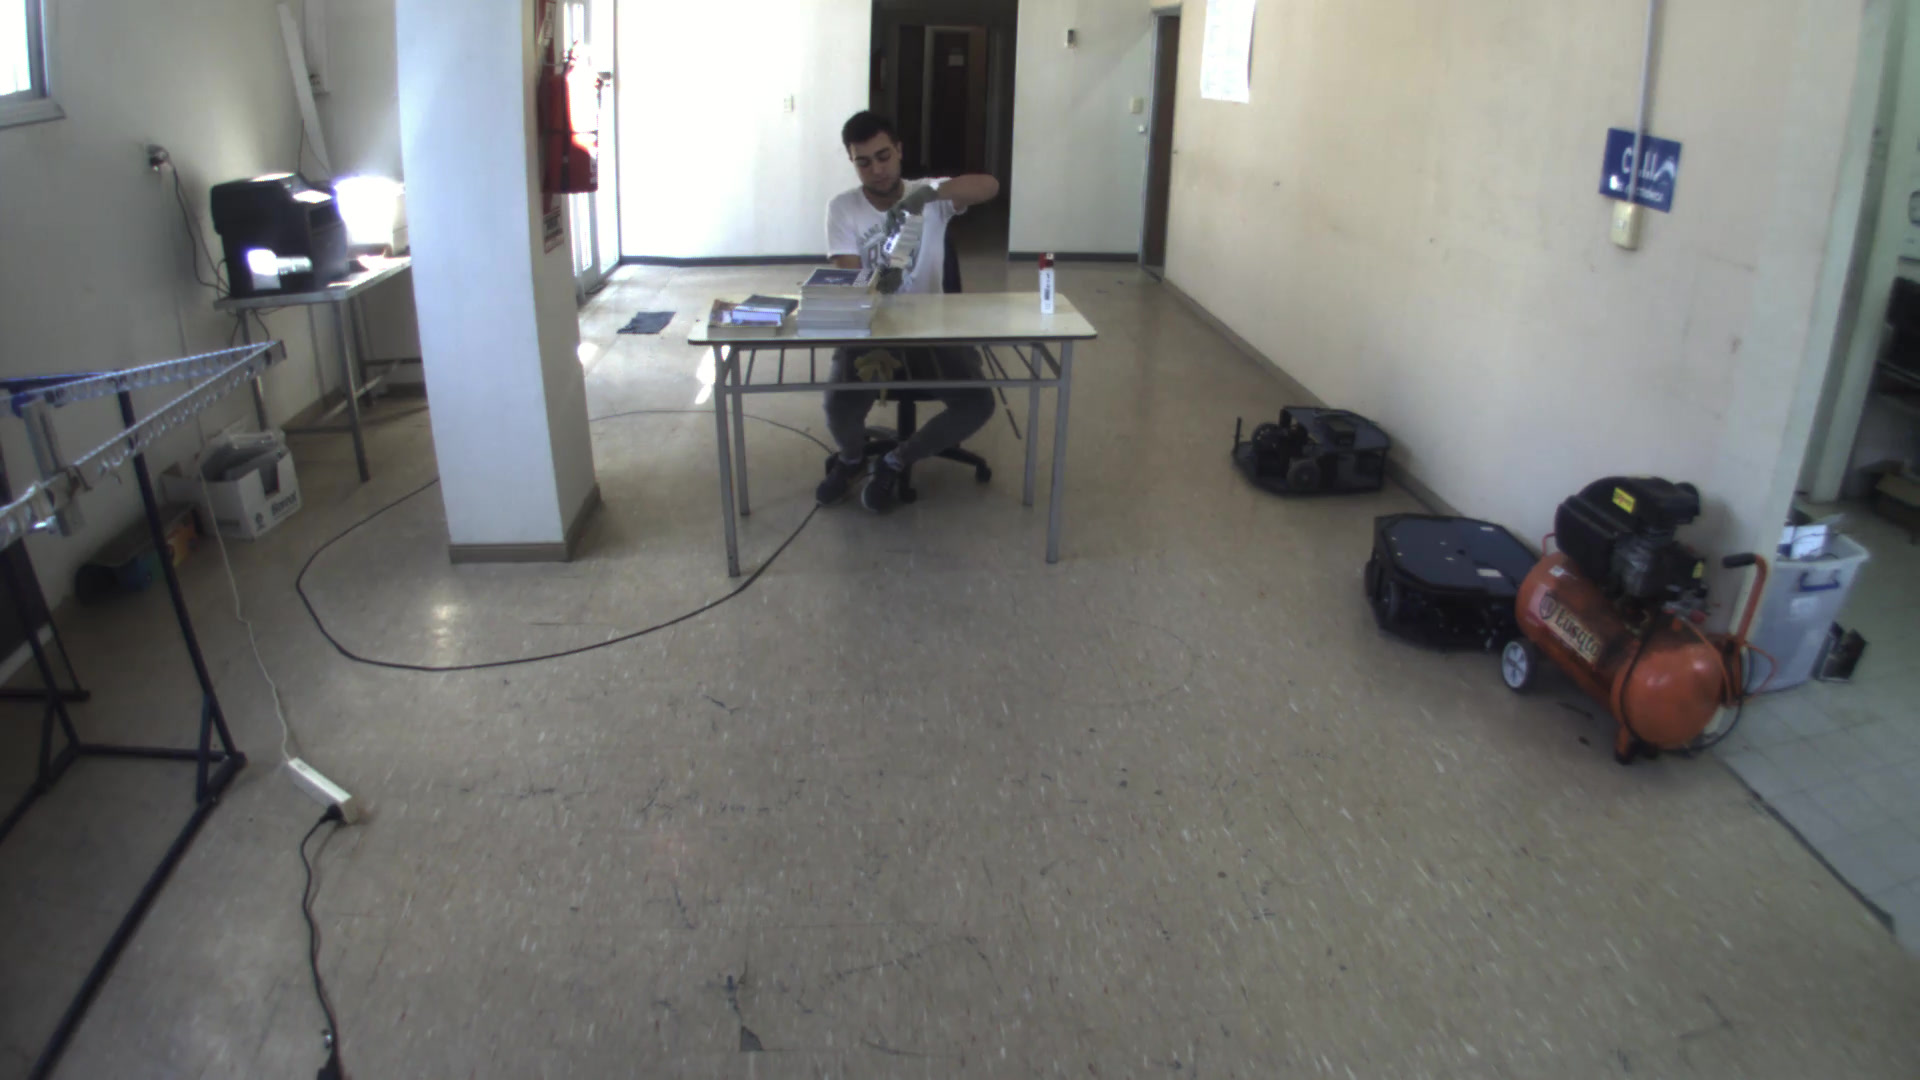hand: (876, 174, 949, 233), (870, 266, 906, 290)
